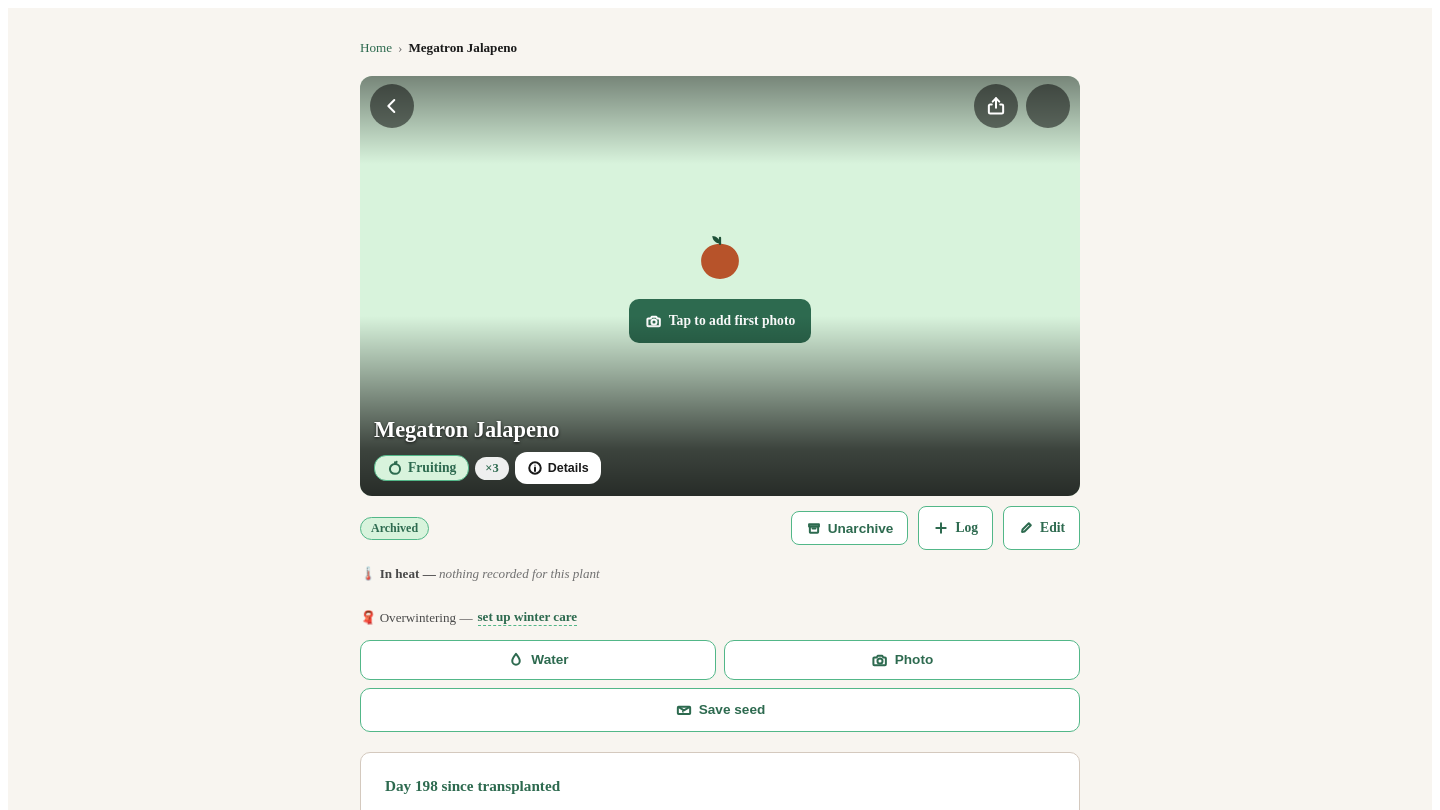
Test: PlantingDetail — V3-ARCHIVE-001 archived restore path › names UNARCHIVE and the state it is left in, never the archive line’s opposite state
Check: the heading "Megatron Jalapeno" is shown, box [374,417,560,442]
Click the button with aria-label "Unarchive this planting" at x=850, y=528, box [791,511,908,545]
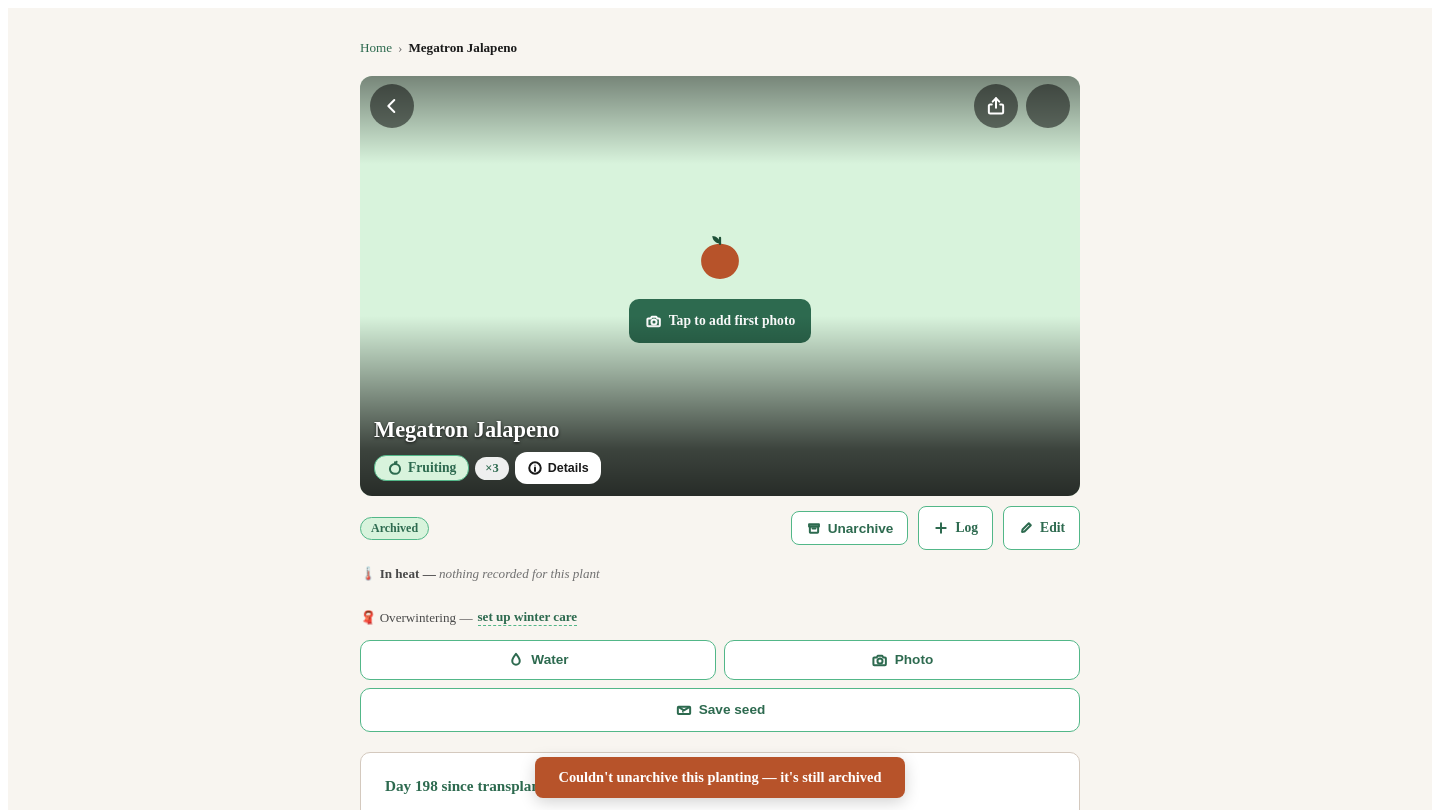
Check: the text "Couldn't unarchive this planting — it's still archived" is shown, box [534,757,905,798]
